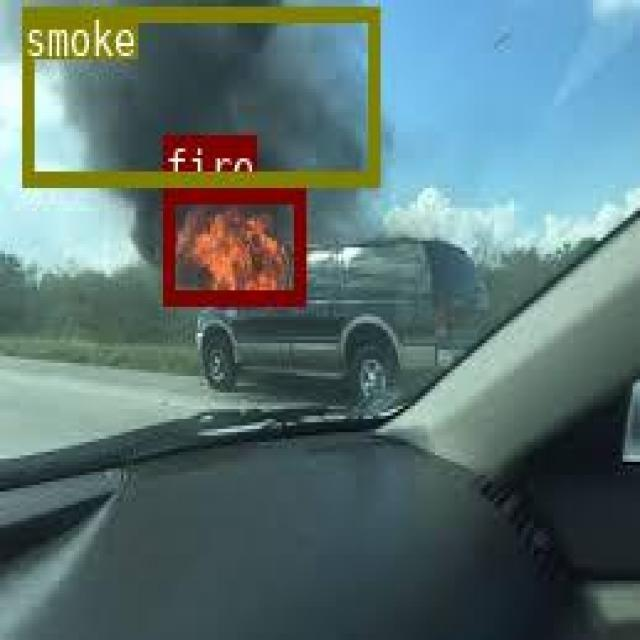fire: (163, 186, 302, 303)
smoke: (22, 7, 377, 185)
